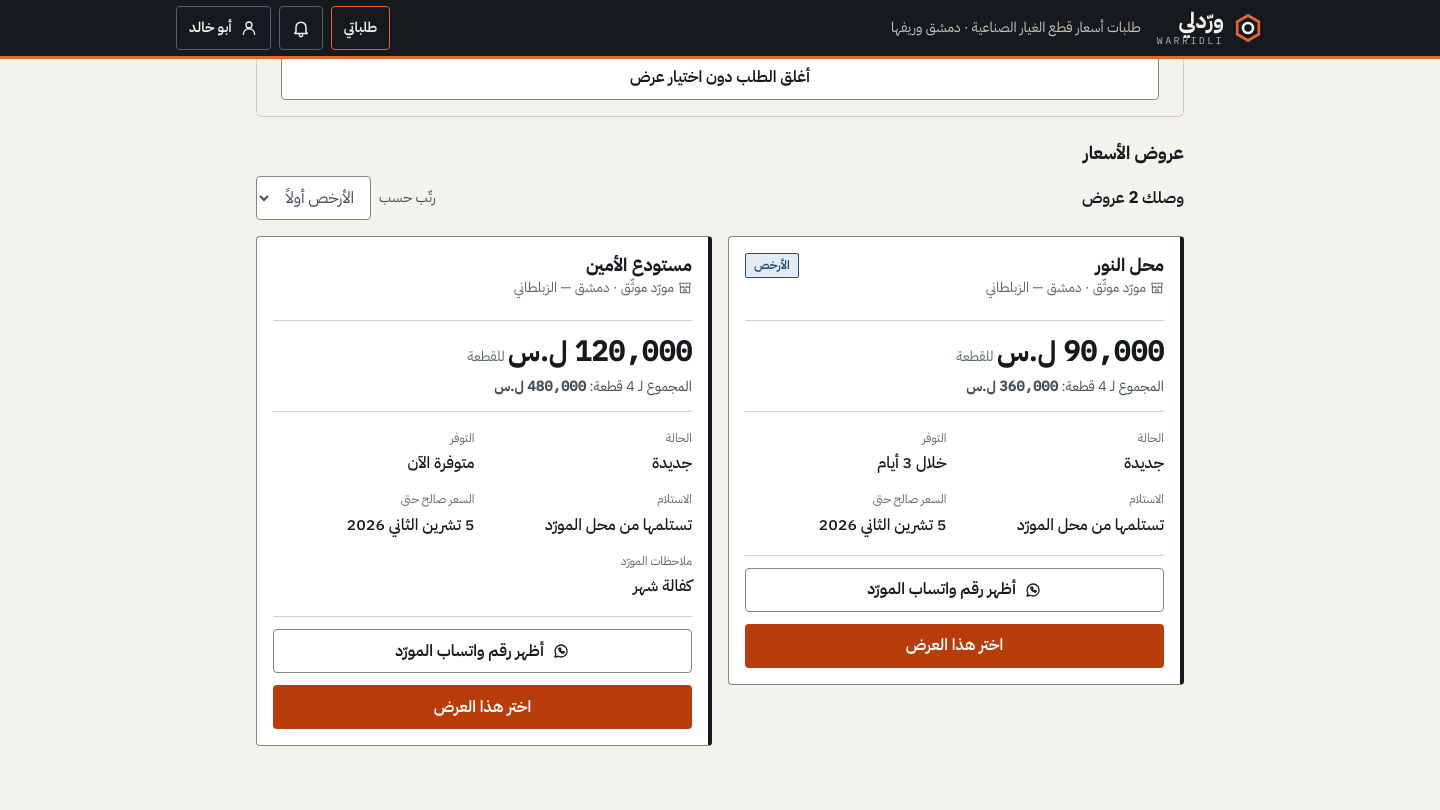
buyer quote comparison › chooses a quote only after confirmation, sending the version the buyer saw
The image size is (1440, 810).
(page scrolled)
Click the button "اختر هذا العرض" below "خلال 3 أيام" at (954, 646), box x1=745 y1=624 x2=1164 y2=668
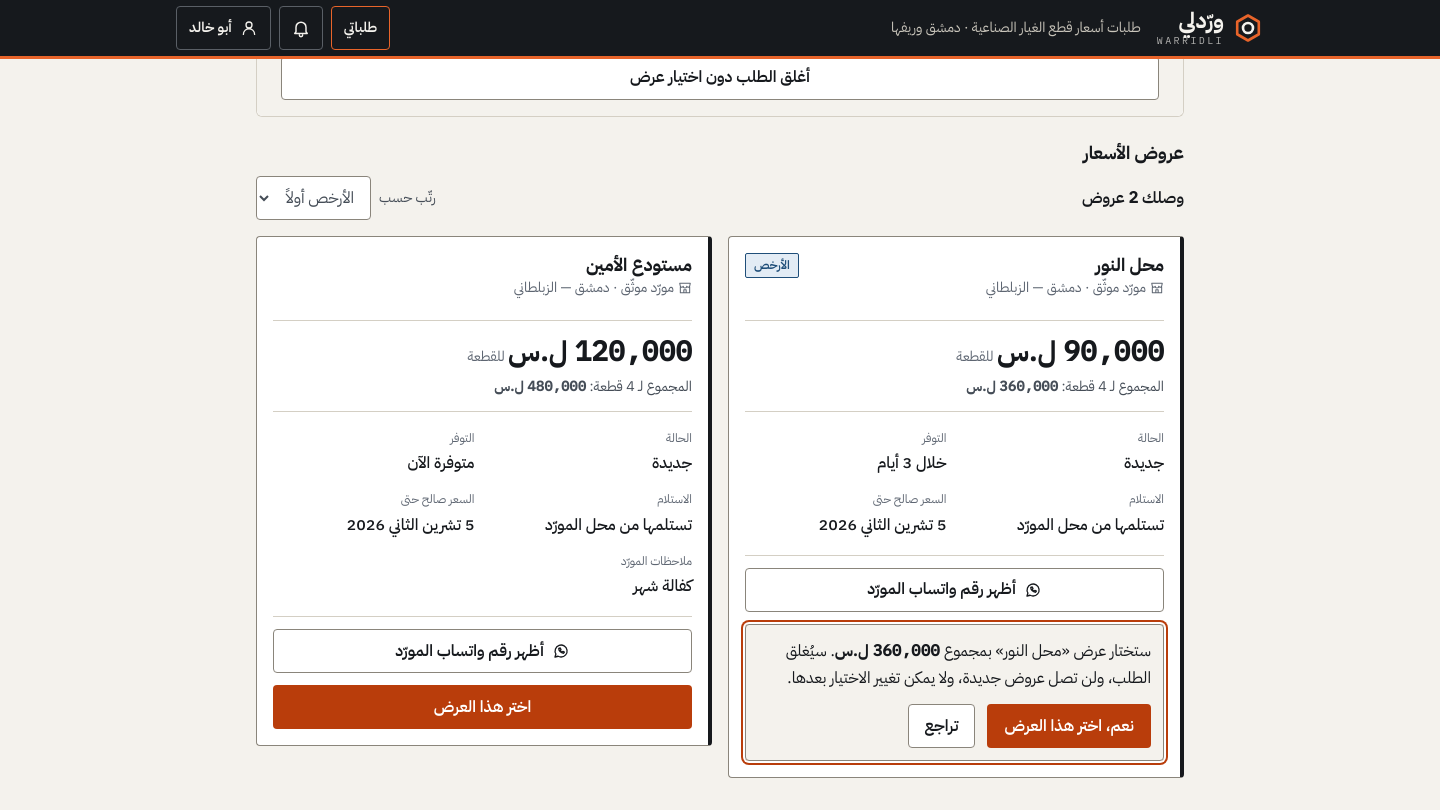
Expected: the text "سيُغلق الطلب، ولن تصل عروض جديدة" is shown, x1=786 y1=639 x2=1151 y2=690
Click the button "نعم، اختر هذا العرض" at (1069, 726), box x1=987 y1=704 x2=1151 y2=748
(page scrolled)
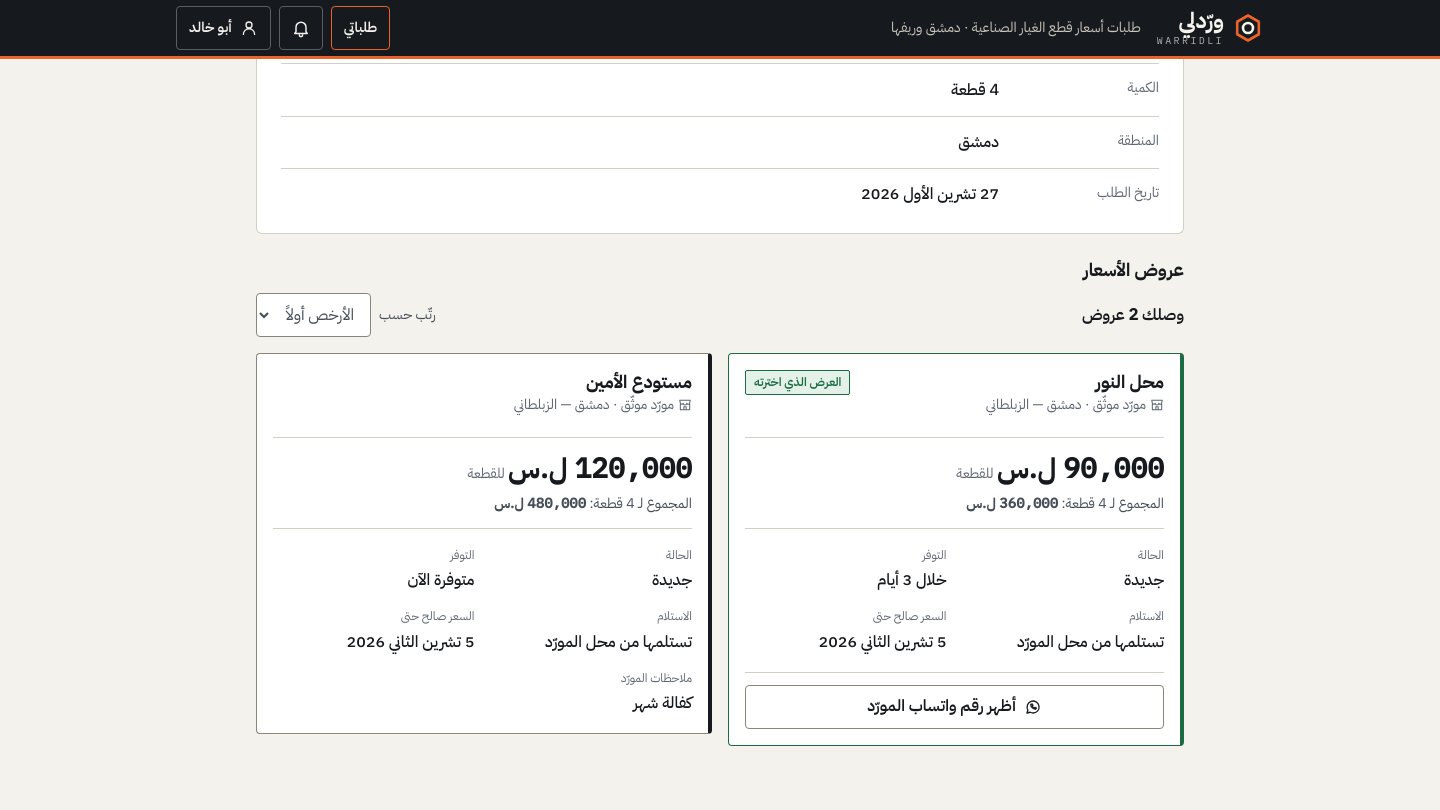
Expected: the button "أظهر رقم واتساب المورّد" is shown, x1=745 y1=685 x2=1164 y2=729
Expected: the text "العرض الذي اخترته" is shown, x1=745 y1=370 x2=850 y2=395
Expected: the button "اختر هذا العرض" is gone
